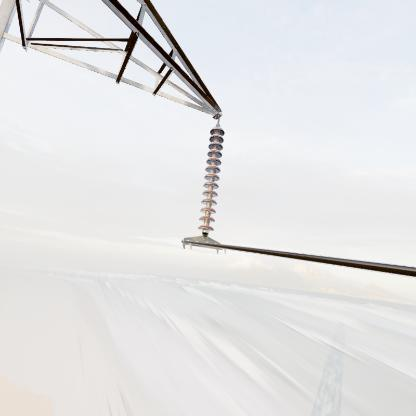insulator: (194, 126, 228, 236)
